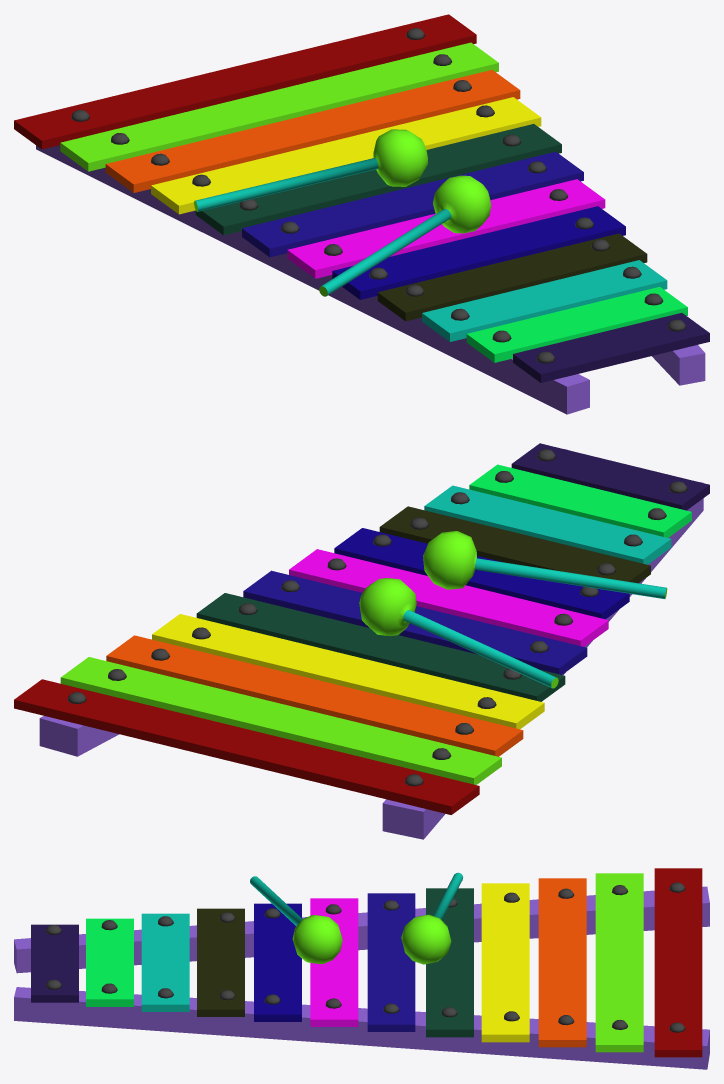
The model's file is xylophone.FBX.
3 views of the same model, one above another, from view 1: azimuth 30°, elevation 25°; view 2: azimuth 150°, elevation 25°; view 3: azimuth 270°, elevation 25° (orthographic). The views are drawn at different scales.
Visible parts, largest first — view 1: 2, 1, Sphere001, mo le, Sphere002; view 2: 2, Sphere002, Sphere001, mo le, 1; view 3: 2, 1, mo le, Sphere002, Sphere001.
Boxes of the visible parts, x1=… form: 2: x1=14, y1=14, x2=709, y2=382; 1: x1=36, y1=145, x2=705, y2=414; Sphere001: x1=194, y1=129, x2=427, y2=211; mo le: x1=71, y1=28, x2=686, y2=363; Sphere002: x1=319, y1=175, x2=491, y2=296; 2: x1=14, y1=443, x2=709, y2=814; Sphere002: x1=423, y1=531, x2=667, y2=598; Sphere001: x1=359, y1=578, x2=558, y2=688; mo le: x1=67, y1=449, x2=687, y2=786; 1: x1=39, y1=449, x2=703, y2=839; 2: x1=31, y1=868, x2=702, y2=1057; 1: x1=14, y1=886, x2=709, y2=1069; mo le: x1=46, y1=882, x2=685, y2=1032; Sphere002: x1=250, y1=876, x2=342, y2=964; Sphere001: x1=401, y1=872, x2=463, y2=964.
Size of the model in its own units: 26.47 by 5.21 by 42.83.
